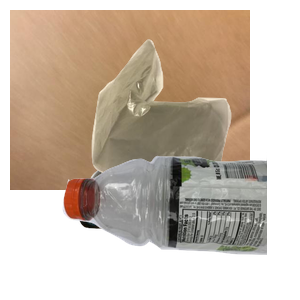cardboard: (10, 10, 250, 190)
glass: (74, 158, 223, 300)
plastic: (60, 152, 300, 300)
trash: (89, 37, 300, 213)
